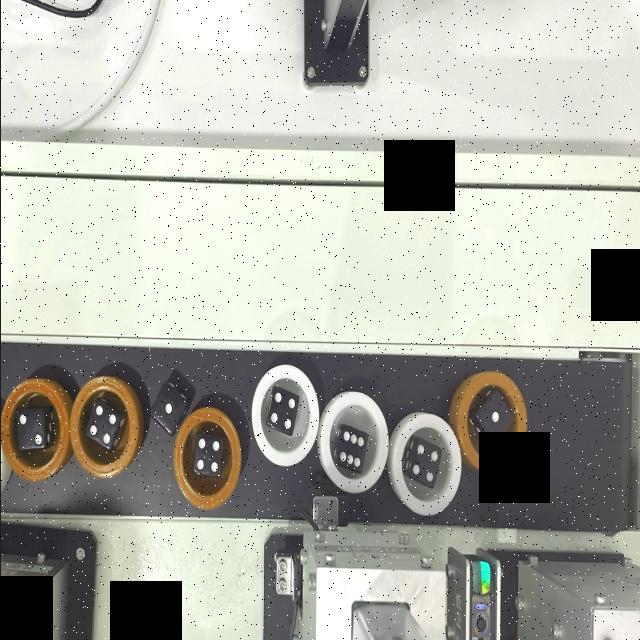DICE1: (154, 384, 184, 432), (479, 397, 507, 439)
DICE2: (15, 409, 42, 450)
DICE4: (267, 392, 298, 434), (410, 442, 439, 484), (195, 434, 222, 476), (90, 405, 116, 447)
DICE6: (335, 428, 367, 472)
RedChip: (456, 372, 526, 472), (174, 409, 240, 511), (68, 376, 136, 474), (0, 378, 66, 478)
WhiteChip: (389, 412, 461, 516), (248, 363, 318, 467), (318, 390, 388, 492)
